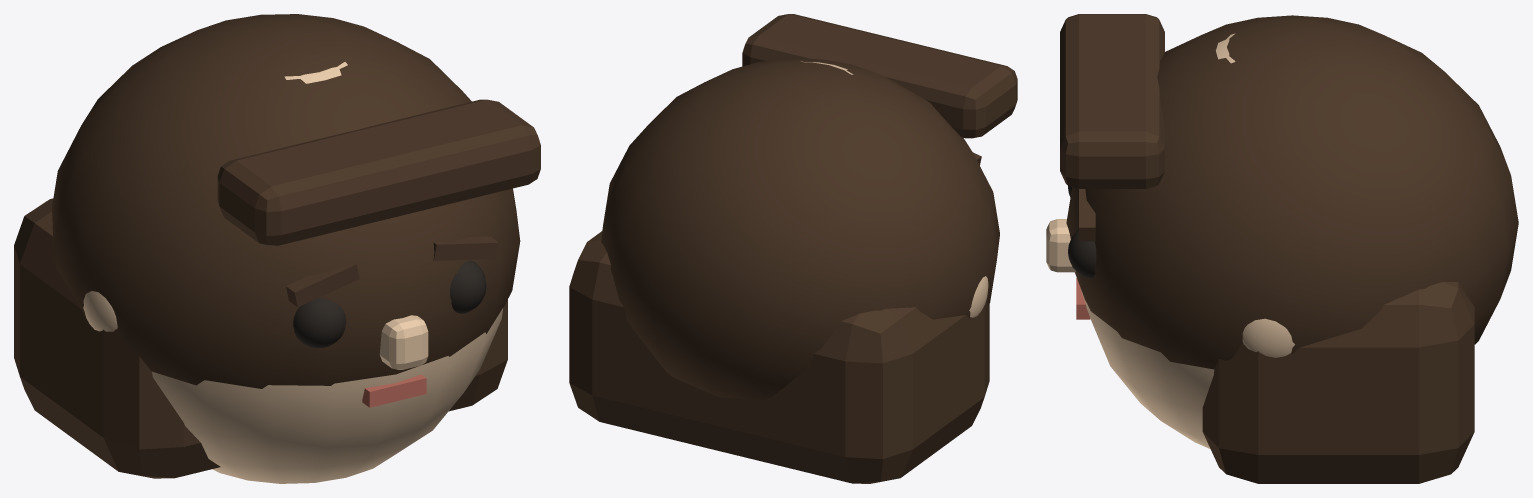
File: fig_head_bob.glb
3 renders of one model, left to right at view 1: azimuth 30°, elevation 25°; view 2: azimuth 150°, elevation 25°; view 3: azimuth 270°, elevation 25°, orthographic. The views are drawn at different scales.
Visible parts, largest first — view 1: hair, hair_fringe, hair_sides, skin_head, skin_nose, eye, brow, eye.001, brow.001, mouth, skin_ear; view 2: hair, hair_sides, hair_fringe; view 3: hair, hair_sides, hair_fringe, skin_head, skin_ear.001, skin_nose, eye.001, brow.001.
Boxes of the visible parts, x1,y1,x2,y2 form: hair: (51, 14, 520, 388); hair_fringe: (217, 99, 540, 245); hair_sides: (14, 198, 507, 478); skin_head: (152, 62, 503, 483); skin_nose: (379, 315, 428, 369); eye: (293, 298, 346, 348); brow: (286, 262, 359, 307); eye.001: (450, 260, 486, 313); brow.001: (433, 236, 498, 260); mouth: (362, 374, 426, 407); skin_ear: (83, 291, 117, 331); hair: (601, 58, 999, 399); hair_sides: (569, 231, 989, 483); hair_fringe: (742, 14, 1017, 138); hair: (1066, 15, 1518, 369); hair_sides: (1202, 282, 1474, 483); hair_fringe: (1060, 14, 1164, 188); skin_head: (1081, 33, 1235, 448); skin_ear.001: (1242, 318, 1294, 357); skin_nose: (1046, 219, 1075, 272); eye.001: (1068, 230, 1096, 278); brow.001: (1079, 189, 1095, 241).
Size of the model in its own units: 0.324 by 0.3198 by 0.3385.
